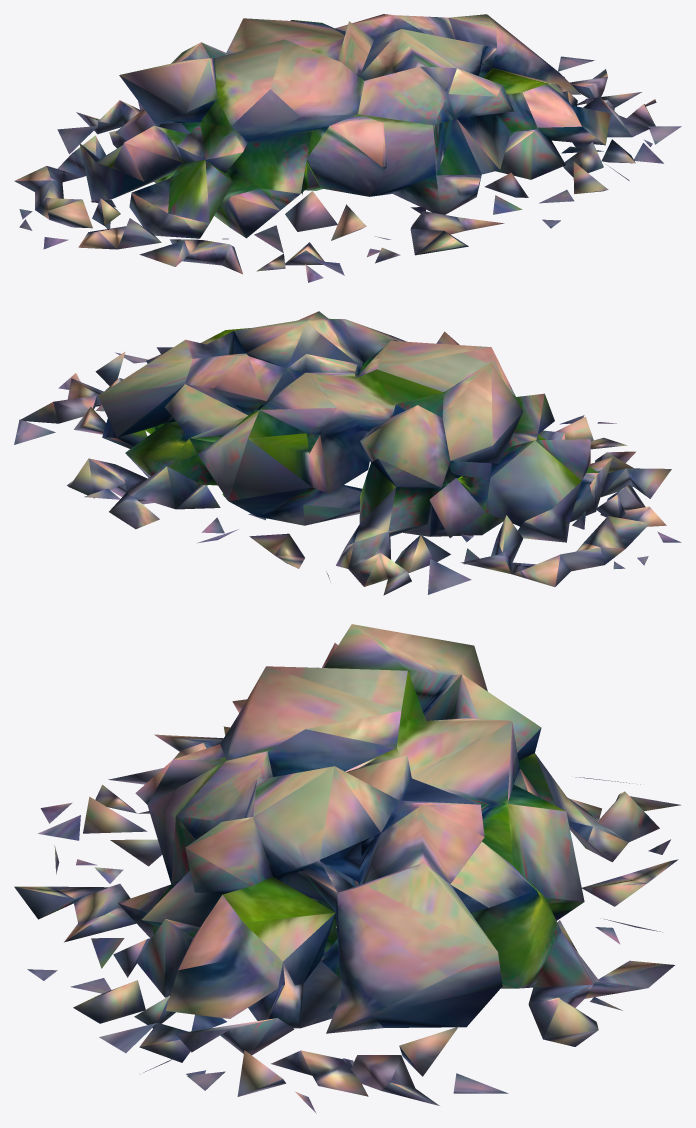
The model's file is bank.glb.
3 views of the same model, one above another, from view 1: azimuth 30°, elevation 25°; view 2: azimuth 150°, elevation 25°; view 3: azimuth 270°, elevation 25° (orthographic). The views are drawn at different scales.
Visible parts, largest first — view 1: BANK; view 2: BANK; view 3: BANK.
Boxes of the visible parts, left/top/right/bottom form: BANK: left=14, top=14, right=681, bottom=282; BANK: left=14, top=311, right=681, bottom=595; BANK: left=14, top=624, right=680, bottom=1113.
Bounding box in the file's own units: 2.6 × 0.5919 × 1.78.
1 material, 1 textured.
